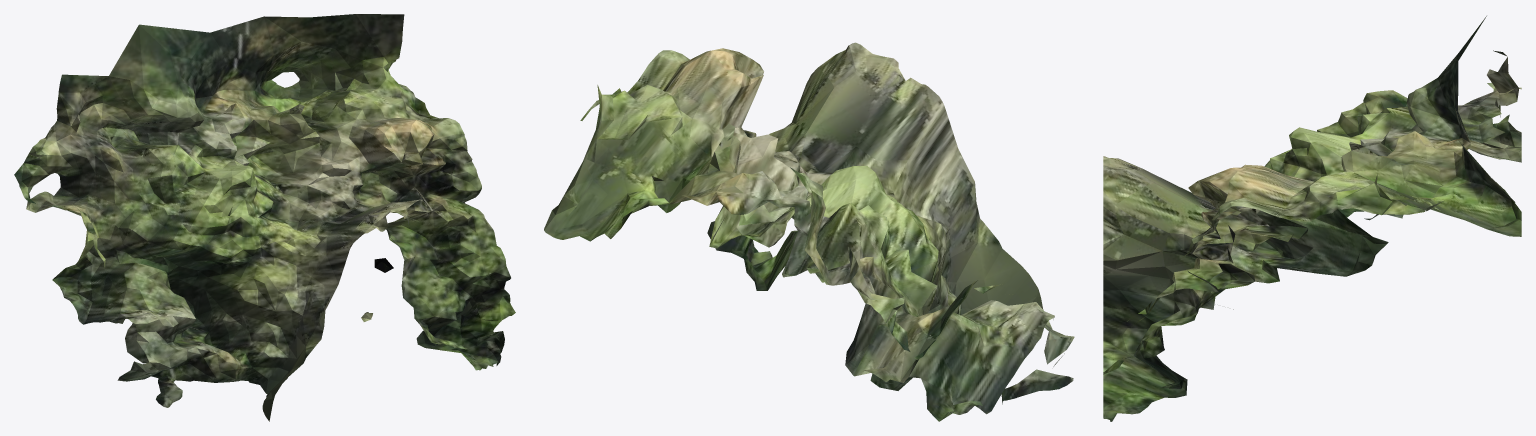
3 renders of one model, left to right at view 1: azimuth 30°, elevation 25°; view 2: azimuth 150°, elevation 25°; view 3: azimuth 270°, elevation 25°, orthographic. The views are drawn at different scales.
Size of the model in its own units: 26.11 by 20.86 by 26.11.
Materials: 5 (5 with a texture image).
